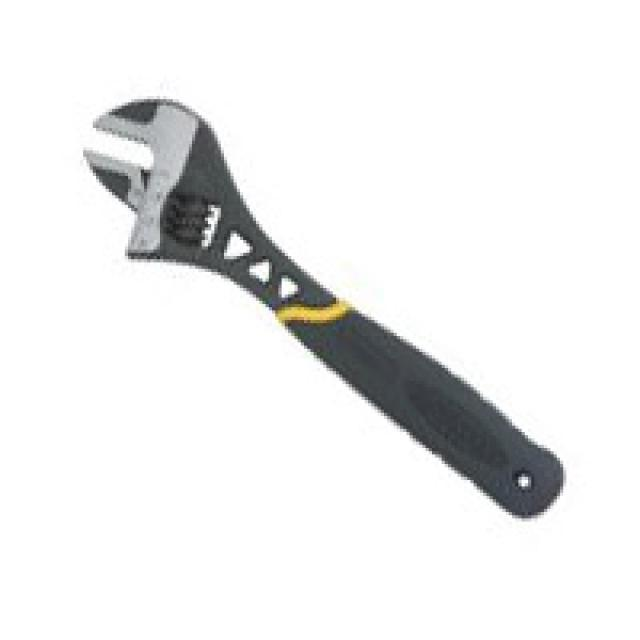wrench: (72, 91, 558, 521)
